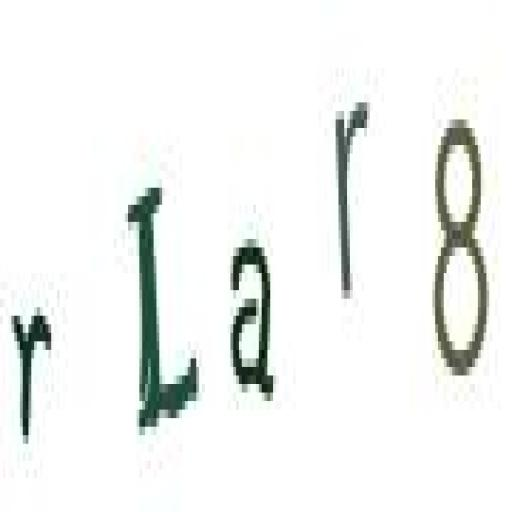8: (430, 94, 497, 390)
L: (125, 168, 209, 450)
a: (223, 219, 283, 419)
r: (330, 74, 372, 316), (8, 291, 56, 450)
